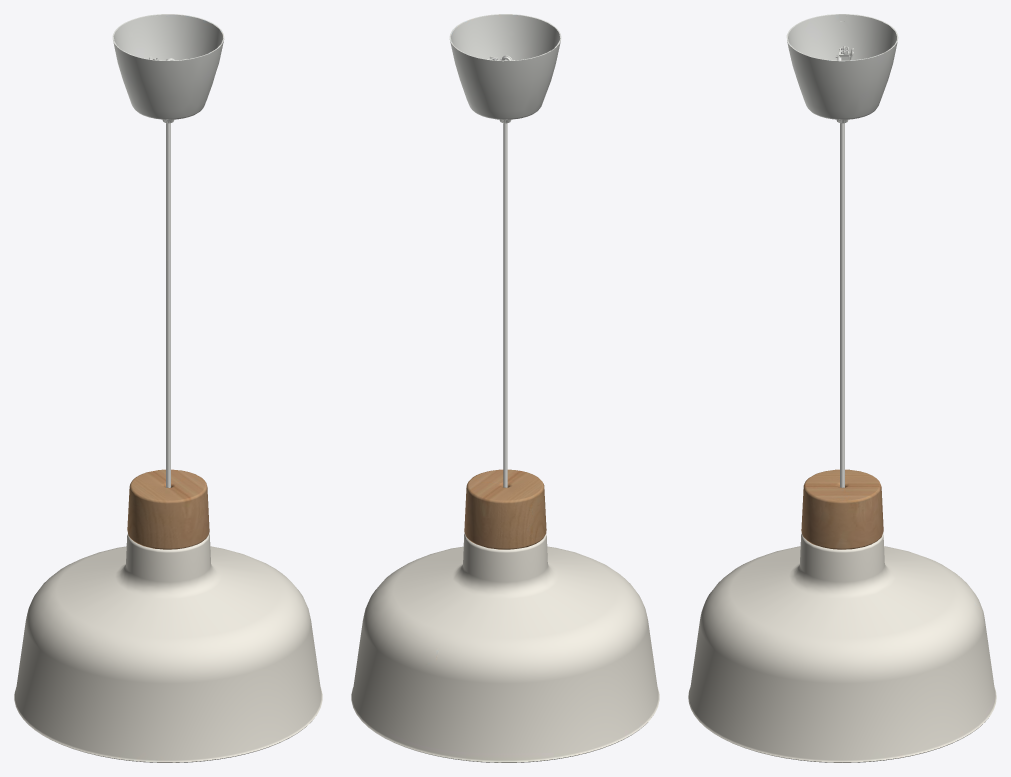
Rendered from bunkeflo_lampa_wiszaca_60488390.glb.
3 renders of one model, left to right at view 1: azimuth 30°, elevation 25°; view 2: azimuth 150°, elevation 25°; view 3: azimuth 270°, elevation 25°, orthographic.
Visible parts, largest first — view 1: bunkeflo_lampa_wiszaca_60488390; view 2: bunkeflo_lampa_wiszaca_60488390; view 3: bunkeflo_lampa_wiszaca_60488390.
Boxes of the visible parts, x1=… form: bunkeflo_lampa_wiszaca_60488390: x1=14, y1=14, x2=322, y2=762; bunkeflo_lampa_wiszaca_60488390: x1=351, y1=14, x2=659, y2=762; bunkeflo_lampa_wiszaca_60488390: x1=688, y1=14, x2=996, y2=762.
Size of the model in its own units: 0.3649 by 0.8622 by 0.3649.
Materials: 1 (1 with a texture image).
